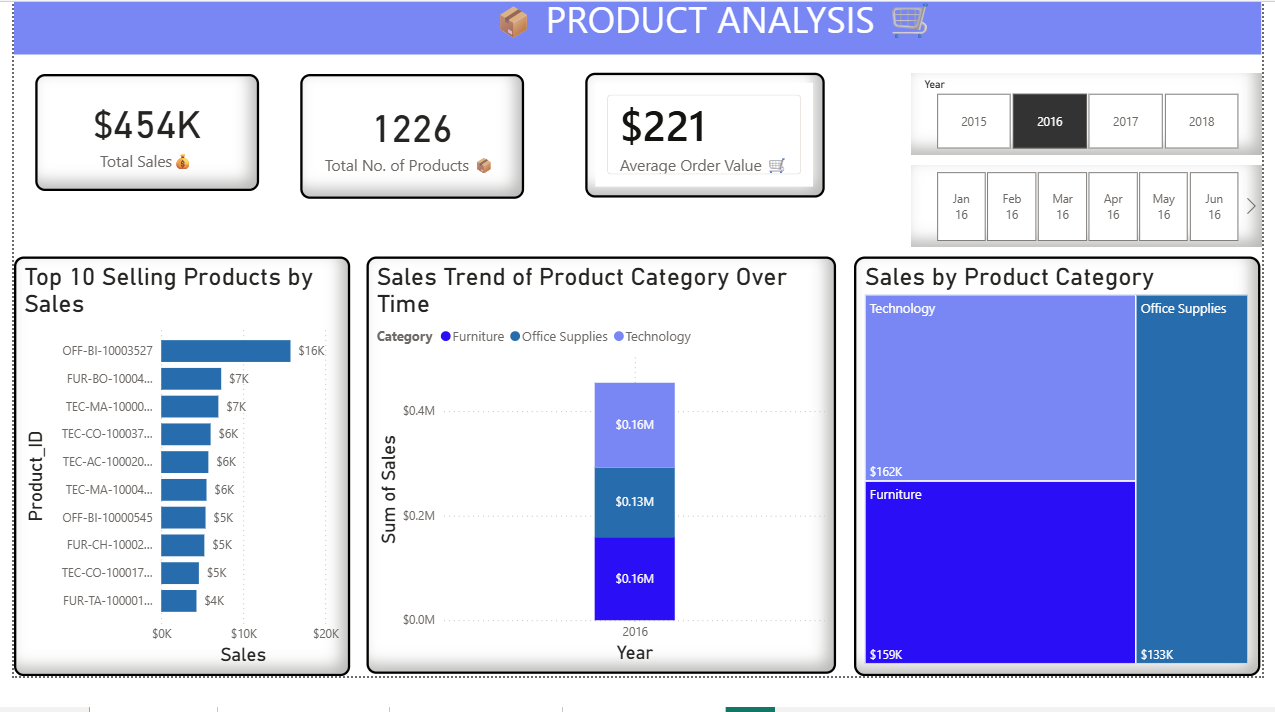

The page's visual inventory and layout, read from the dashboard file:
{"tool":"powerbi","page":{"name":"Product Analysis","canvas":[1280,720],"ordinal":3},"visuals":[{"type":"card","fields":{"Values":["Sum(superstore_db superstore.Sales)"]},"box":[22,102.7,229.9,119.8],"z":0},{"type":"card","fields":{"Values":["Count(superstore_db superstore.Product_ID)"]},"box":[293.5,102.7,229.9,128.4],"z":1000},{"type":"slicer","fields":{"Values":["superstore_db superstore.Order_Date.Variation.Date Hierarchy.Year"]},"box":[920.8,101.5,359.5,84.4],"z":2000},{"type":"treemap","title":"Sales by Product Category ","fields":{"Values":["Sum(superstore_db superstore.Sales)"],"Group":["superstore_db superstore.Category","superstore_db superstore.Sub_Category"]},"box":[862.1,289.8,417,430.4],"z":4000},{"type":"columnChart","title":"Sales Trend of Product Category Over Time","fields":{"Category":["superstore_db superstore.Order_Date.Variation.Date Hierarchy.Year"],"Y":["Sum(superstore_db superstore.Sales)"],"Series":["superstore_db superstore.Category"]},"box":[362,289.8,481.8,428],"z":5000},{"type":"barChart","title":"Top 10 Selling Products by Sales","fields":{"Category":["superstore_db superstore.Product_ID"],"Y":["Sum(superstore_db superstore.Sales)"]},"box":[0,289.8,344.8,430.4],"z":6000},{"type":"slicer","fields":{"Values":["superstore_db superstore.MonthYear"]},"box":[920.8,195.7,359.5,84.4],"z":7000},{"type":"cardVisual","fields":{"Data":["superstore_db superstore.Average Order Value"]},"box":[585.7,101.5,245.8,128.4],"z":8000},{"type":"textbox","box":[0,15.9,1279.1,67.3],"z":9000}]}

Visuals, with their boxes in screenshot pixels (x1, y1, x2, y2), scaled from the page's 1280x720 canvas onto the 1275x712 screenshot:
card - Sum(superstore_db superstore.Sales): (x1=22, y1=102, x2=251, y2=220)
card - Count(superstore_db superstore.Product_ID): (x1=292, y1=102, x2=521, y2=229)
slicer - superstore_db superstore.Order_Date.Variation.Date Hierarchy.Year: (x1=917, y1=100, x2=1274, y2=184)
"Sales by Product Category " treemap: (x1=859, y1=287, x2=1274, y2=711)
"Sales Trend of Product Category Over Time" columnChart: (x1=361, y1=287, x2=841, y2=710)
"Top 10 Selling Products by Sales" barChart: (x1=0, y1=287, x2=343, y2=711)
slicer - superstore_db superstore.MonthYear: (x1=917, y1=194, x2=1274, y2=277)
cardVisual - superstore_db superstore.Average Order Value: (x1=583, y1=100, x2=828, y2=227)
textbox: (x1=0, y1=16, x2=1274, y2=82)
